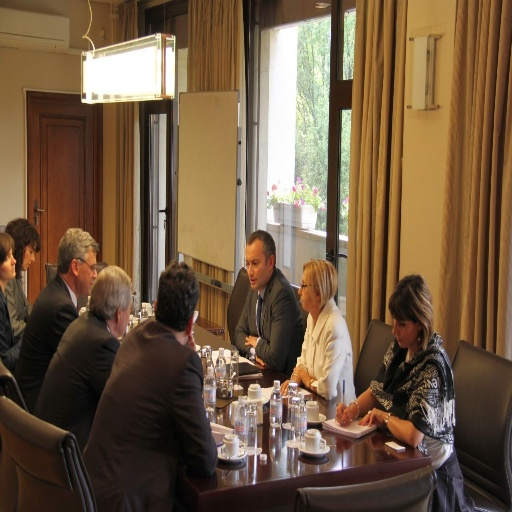hand: (333, 397, 354, 428), (358, 406, 385, 426), (294, 367, 311, 388), (278, 379, 292, 396), (186, 334, 198, 349), (244, 334, 257, 347), (254, 356, 266, 367)
